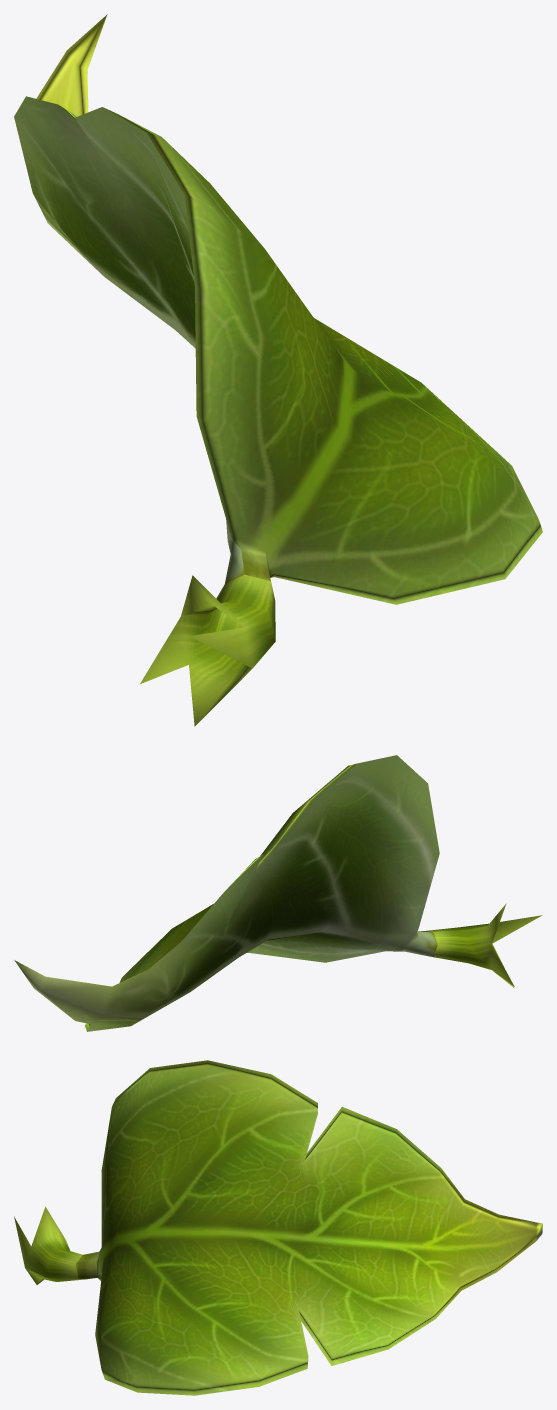
Rendered from sunflower2_ala_izq.obj.
3 renders of one model, top to bottom at view 1: azimuth 30°, elevation 25°; view 2: azimuth 150°, elevation 25°; view 3: azimuth 270°, elevation 25°, orthographic. The views are drawn at different scales.
Parts seen in each view (by area): view 1: sunflower2_ala_izq; view 2: sunflower2_ala_izq; view 3: sunflower2_ala_izq.
Part boxes in pixels (x1,y1,x2,y2): sunflower2_ala_izq: (14, 14, 542, 726); sunflower2_ala_izq: (14, 755, 542, 1031); sunflower2_ala_izq: (14, 1060, 542, 1395).
Size of the model in its own units: 0.2669 by 0.2368 by 0.4473.
